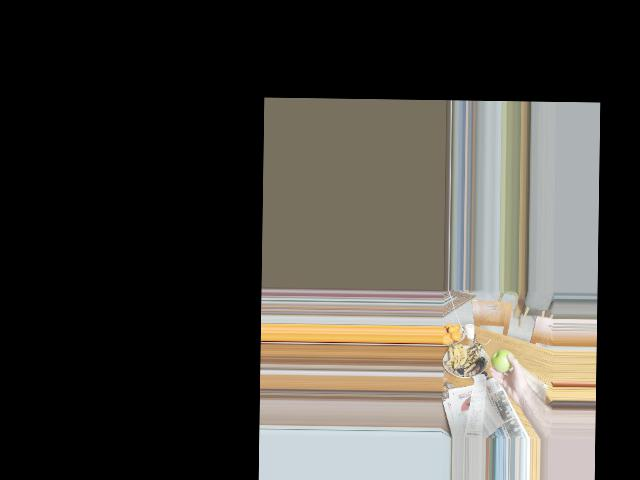apple: (491, 349, 515, 374)
